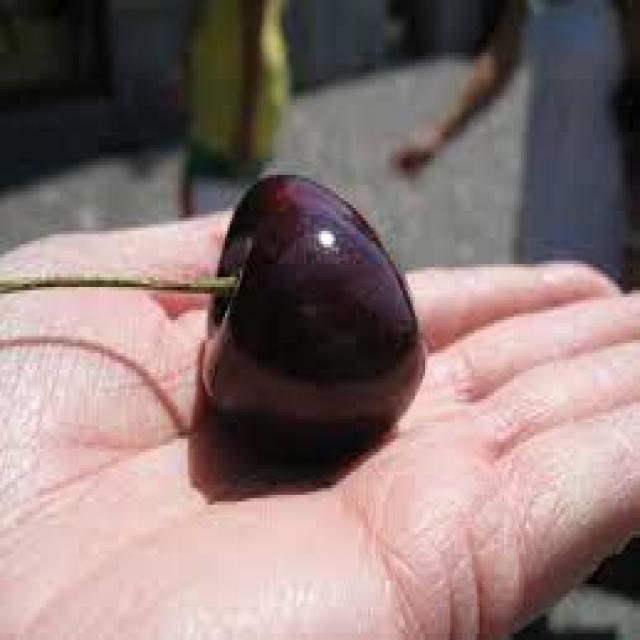cherry: (2, 171, 442, 485)
